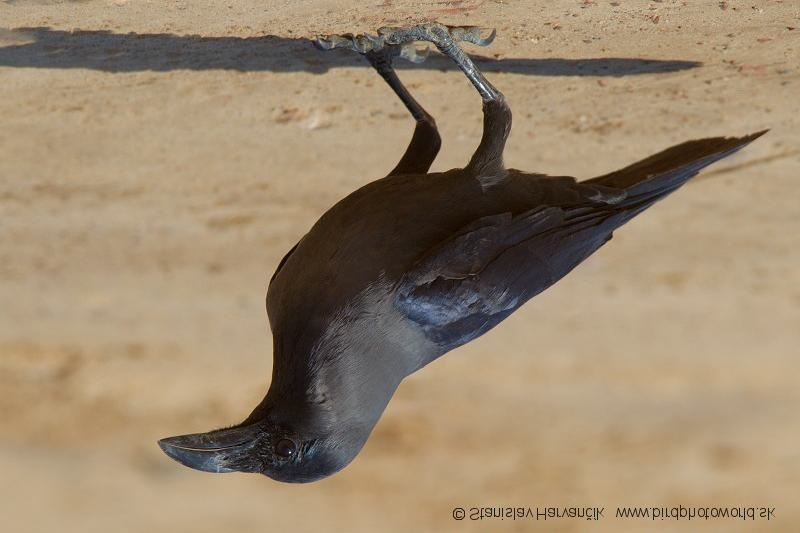crow: (153, 23, 774, 492)
